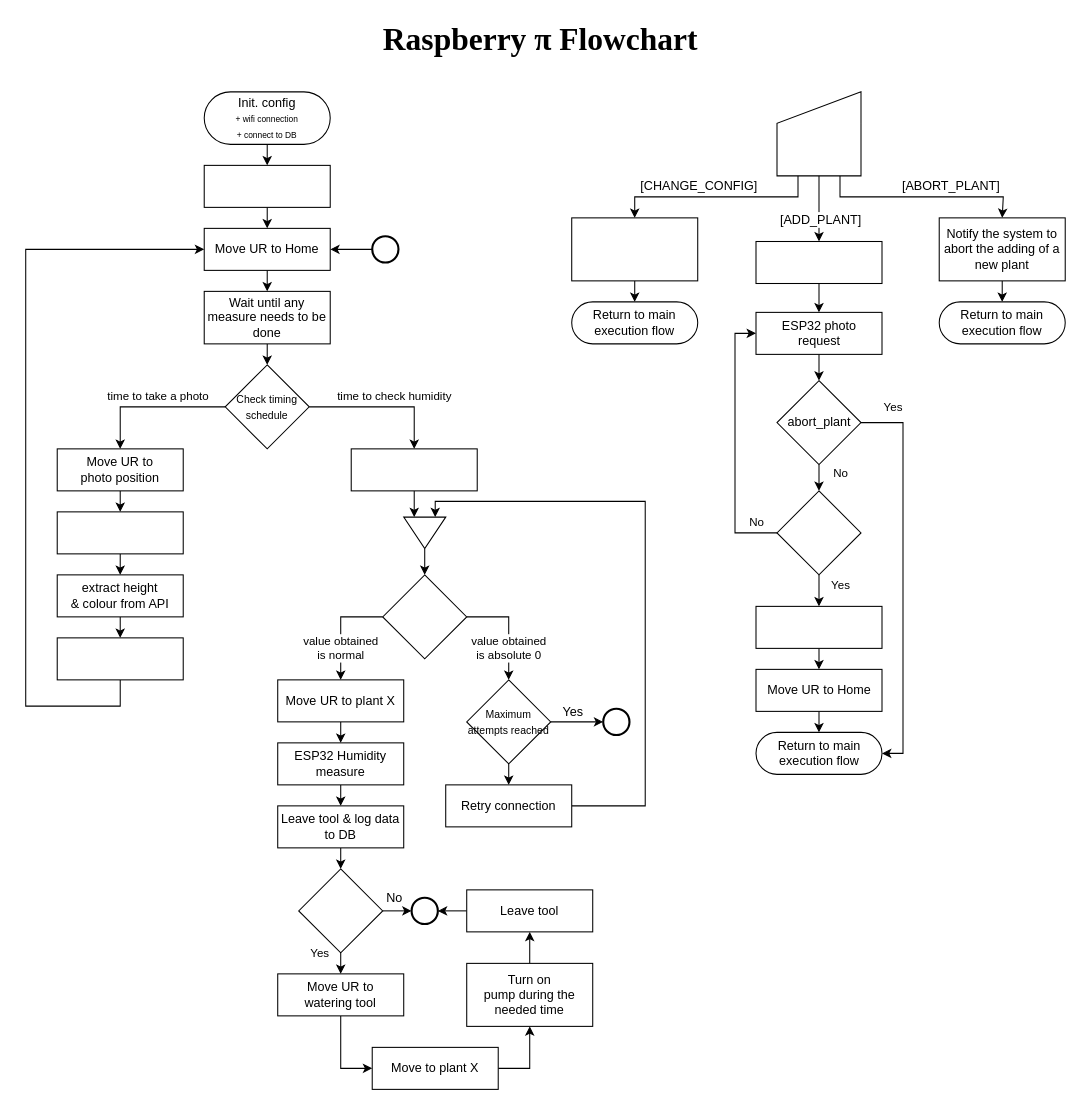
Image size: 1084x1108. Some labels were removed from this diagram. The box of each missing label's shape, as (x1, y1, x2, y2) in pixels:
Ask ESP32 for humidity: (382, 574, 467, 659)
Extract plant data & add new plant to DB: (755, 605, 882, 648)
Get picture from ESP32: (56, 511, 183, 554)
Log data to DB: (56, 637, 183, 680)
Move UR to humidity tool: (350, 448, 477, 491)
Move UR to plant addition pos.: (755, 240, 882, 284)
QR in photo?: (776, 490, 861, 575)
Request Timings & Timestamps: (203, 164, 330, 207)
Request Timings & Timestamps to the DB & update values: (571, 217, 698, 281)
socket.io: (776, 91, 861, 176)
Watering needed: (298, 868, 383, 953)
